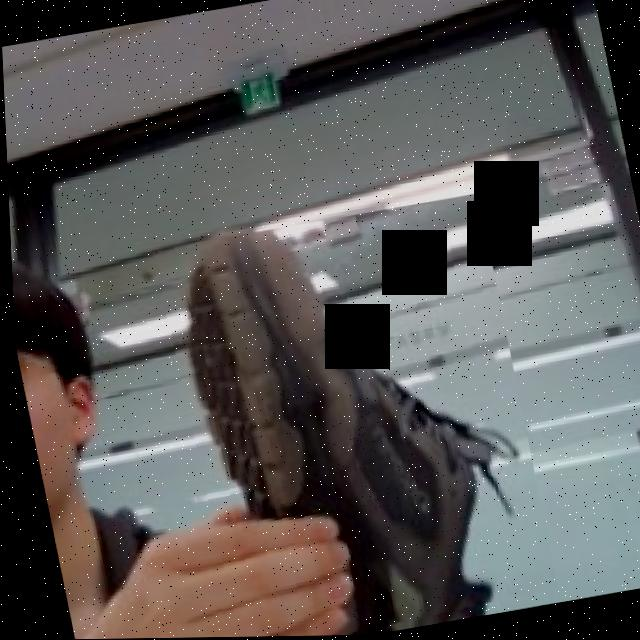shoe: (136, 194, 556, 638)
